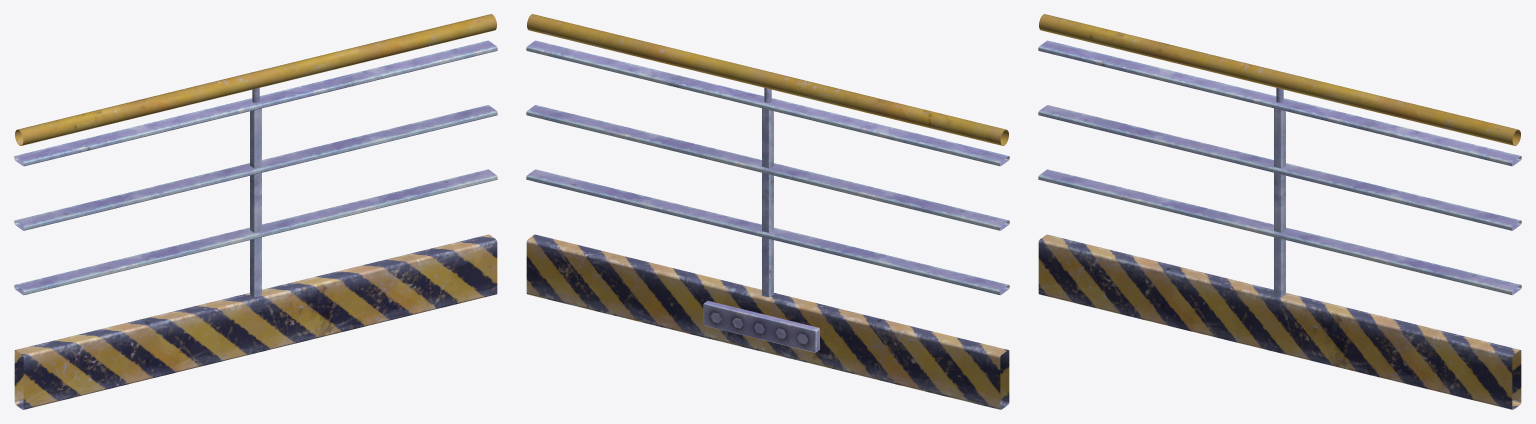
The model's file is SM_Rail_6m.fbx.
The picture shows the model from 3 angles, left to right: view 1: azimuth 30°, elevation 25°; view 2: azimuth 150°, elevation 25°; view 3: azimuth 330°, elevation 25°; orthographic projection.
Parts seen in each view (by area): view 1: SM_Rail_6m; view 2: SM_Rail_6m; view 3: SM_Rail_6m.
Part boxes in pixels (left/top/right/bottom): SM_Rail_6m: left=14, top=14, right=497, bottom=409; SM_Rail_6m: left=526, top=14, right=1009, bottom=409; SM_Rail_6m: left=1038, top=14, right=1521, bottom=409.
Size of the model in its own units: 600 by 336 by 29.12.
